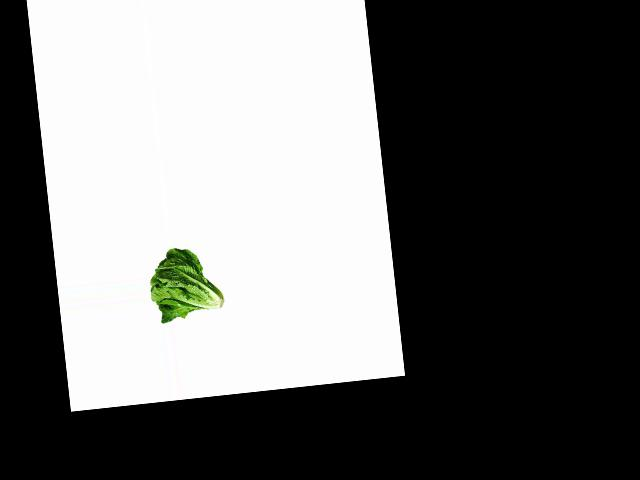lettuce: (145, 242, 229, 323)
